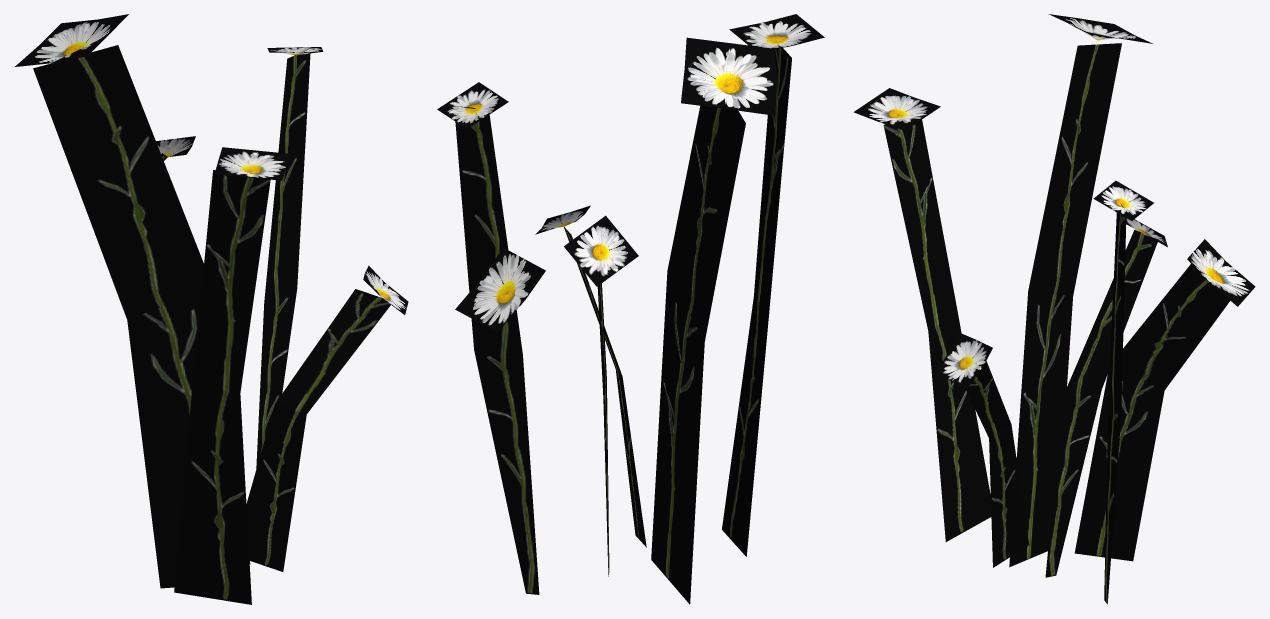
File: 08_Leucanthemum_vulgare_02_medium_02_001.fbx
The picture shows the model from 3 angles, left to right: view 1: azimuth 30°, elevation 25°; view 2: azimuth 150°, elevation 25°; view 3: azimuth 270°, elevation 25°; orthographic projection. The views are drawn at different scales.
Parts seen in each view (by area): view 1: 08_Leucanthemum_vulgare_02.medium_02.001; view 2: 08_Leucanthemum_vulgare_02.medium_02.001; view 3: 08_Leucanthemum_vulgare_02.medium_02.001.
Part boxes in pixels (x1=…): 08_Leucanthemum_vulgare_02.medium_02.001: x1=15, y1=14, x2=408, y2=604; 08_Leucanthemum_vulgare_02.medium_02.001: x1=437, y1=14, x2=824, y2=604; 08_Leucanthemum_vulgare_02.medium_02.001: x1=853, y1=14, x2=1255, y2=604.
Bounding box in the file's own units: 0.2021 × 0.3448 × 0.2467.
